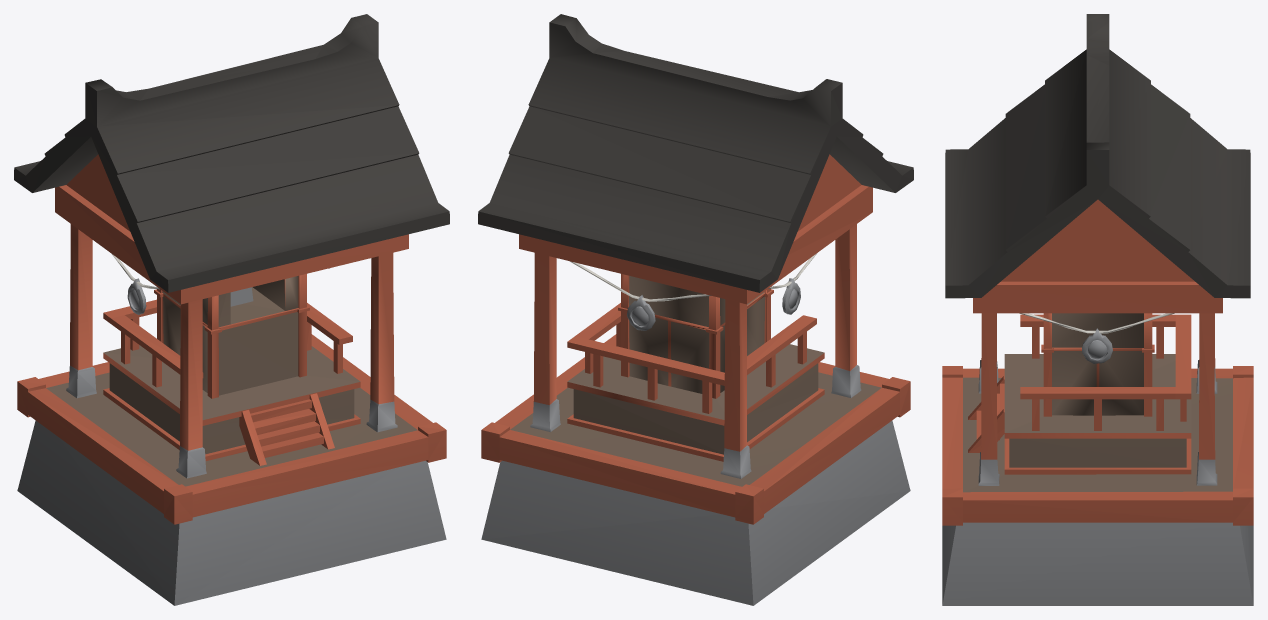
Rendered from jp_shrine.glb.
3 renders of one model, left to right at view 1: azimuth 30°, elevation 25°; view 2: azimuth 150°, elevation 25°; view 3: azimuth 270°, elevation 25°, orthographic.
Visible parts, largest first — view 1: jp_shrine; view 2: jp_shrine; view 3: jp_shrine.
Part boxes in pixels (bbox=[...]): jp_shrine: bbox=[14, 14, 449, 605]; jp_shrine: bbox=[478, 14, 913, 605]; jp_shrine: bbox=[942, 14, 1253, 605].
Size of the model in its own units: 3.19 by 5 by 3.08.
